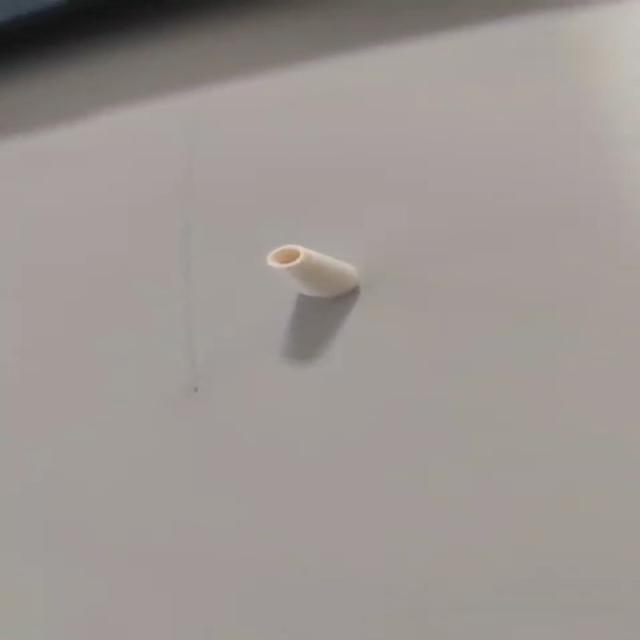Z1x1x1: (261, 245, 367, 299)
